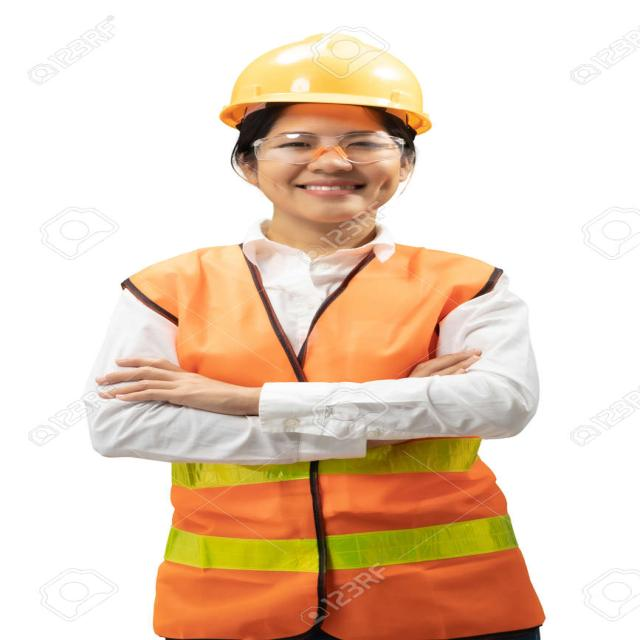goggles: (232, 126, 430, 169)
helmet: (198, 26, 457, 124)
vest: (104, 215, 568, 640)
